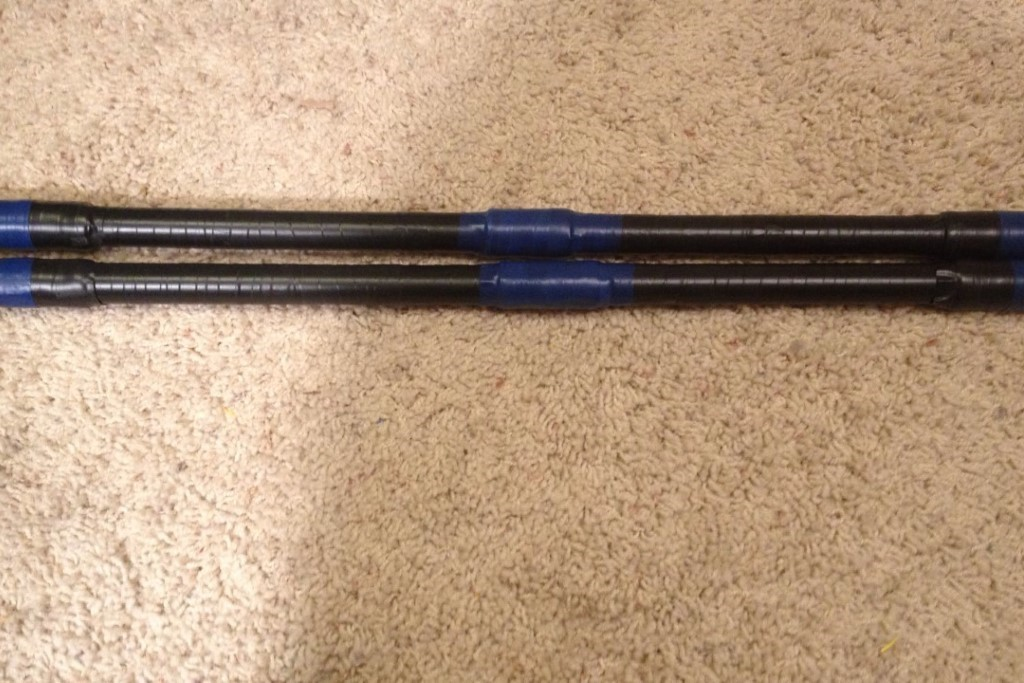baston_e: (5, 178, 1016, 261), (3, 256, 1015, 327)
